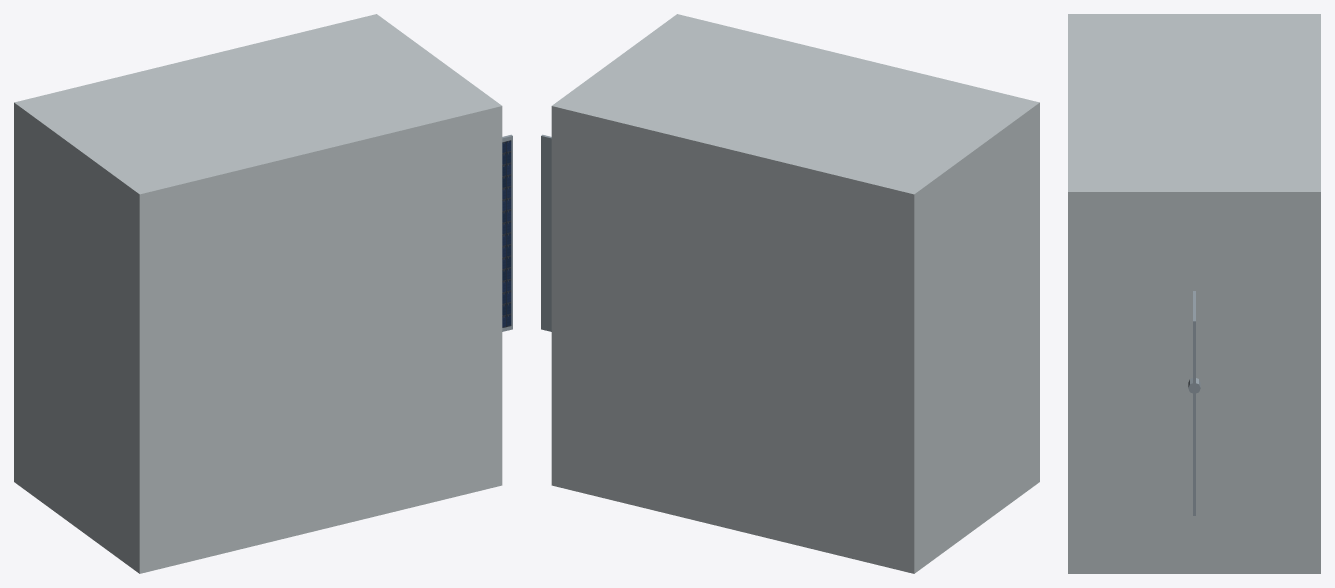
File: ref-afr-56964.glb
The picture shows the model from 3 angles, left to right: view 1: azimuth 30°, elevation 25°; view 2: azimuth 150°, elevation 25°; view 3: azimuth 270°, elevation 25°; orthographic projection.
Visible parts, largest first — view 1: Spacecraft body, Photovoltaic laminates; view 2: Spacecraft body, Array frame; view 3: Spacecraft body, Array frame.
Part boxes in pixels (<box>): Spacecraft body: <box>14,14,502,573</box>; Photovoltaic laminates: <box>502,140,511,327</box>; Spacecraft body: <box>551,14,1039,573</box>; Array frame: <box>541,134,551,331</box>; Spacecraft body: <box>1068,14,1320,573</box>; Array frame: <box>1193,291,1195,515</box>.
Size of the model in its own units: 1.2 by 1 by 0.6.
3 materials, 1 textured.
